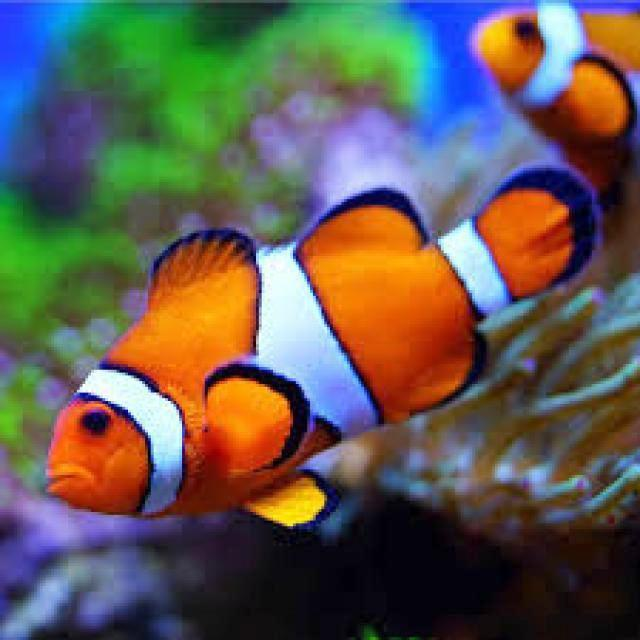ClownFish: (45, 163, 596, 517), (472, 2, 640, 138)
